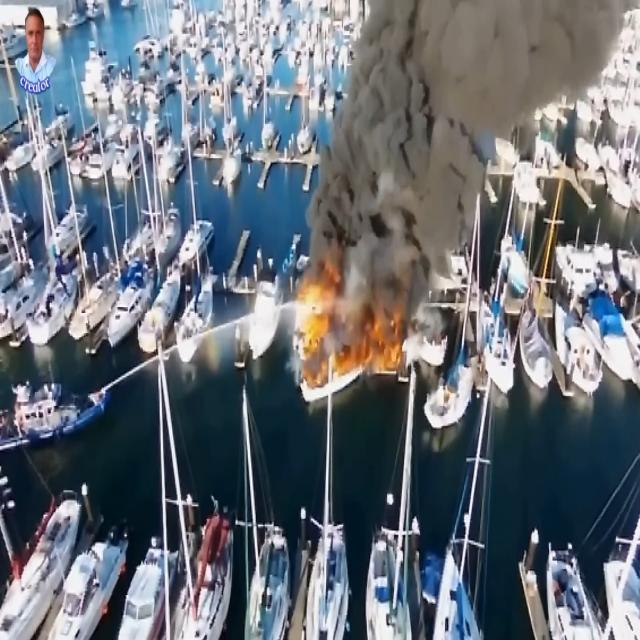Fire: (295, 286, 332, 352), (363, 317, 403, 375)
Smoke: (370, 9, 492, 244), (380, 0, 598, 82), (354, 0, 412, 179)
